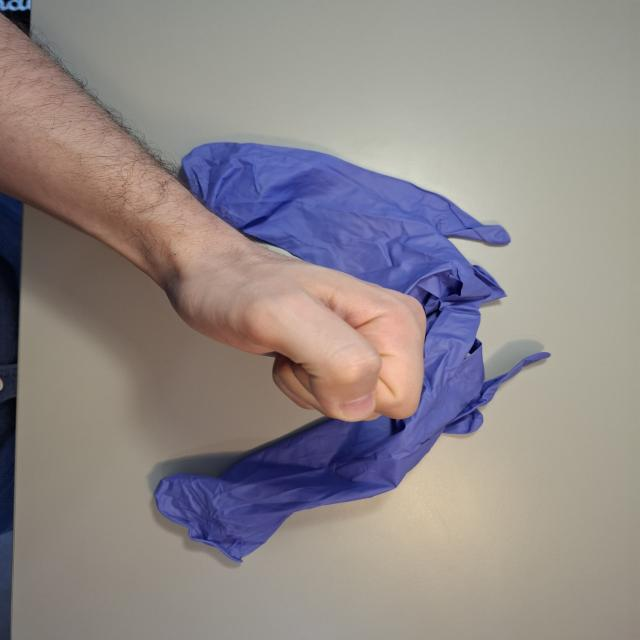glove_off: (154, 225, 430, 426)
